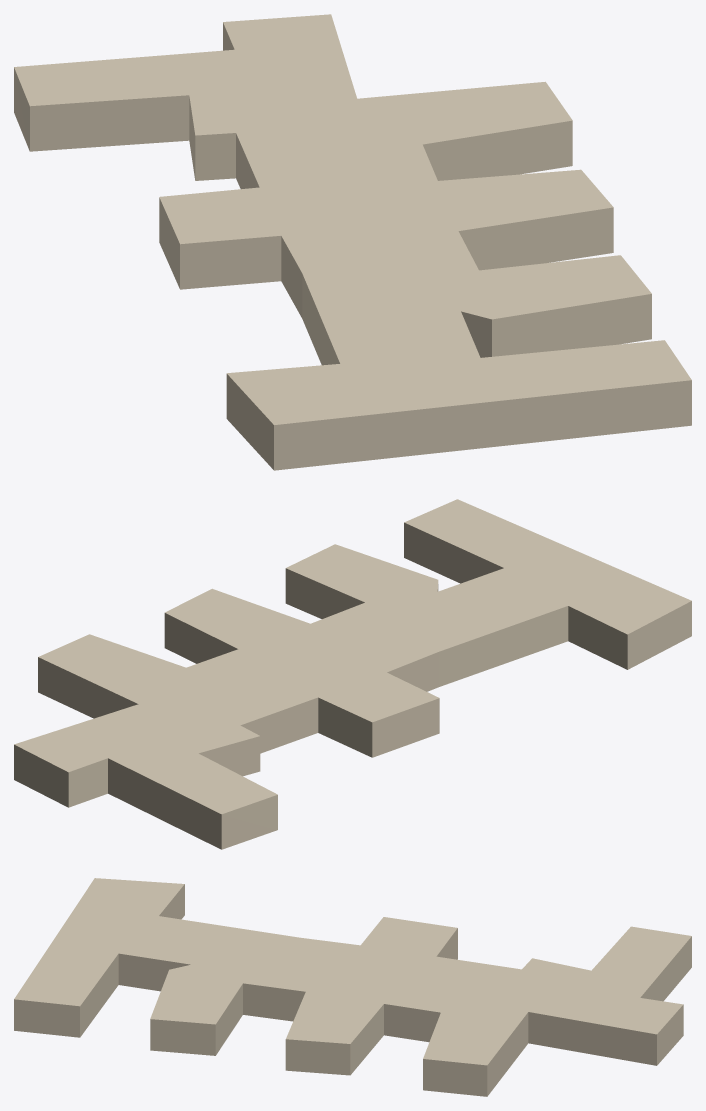
3 views of the same model, one above another, from view 1: azimuth 30°, elevation 25°; view 2: azimuth 150°, elevation 25°; view 3: azimuth 270°, elevation 25° (orthographic). The views are drawn at different scales.
Bounding box in the file's own units: 123 × 9.64 × 188.
